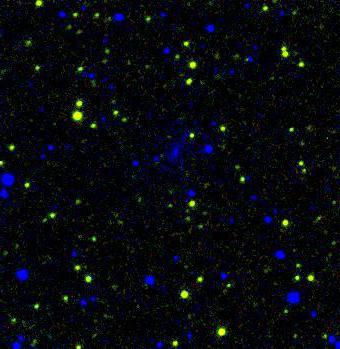star: (178, 119, 208, 149)
